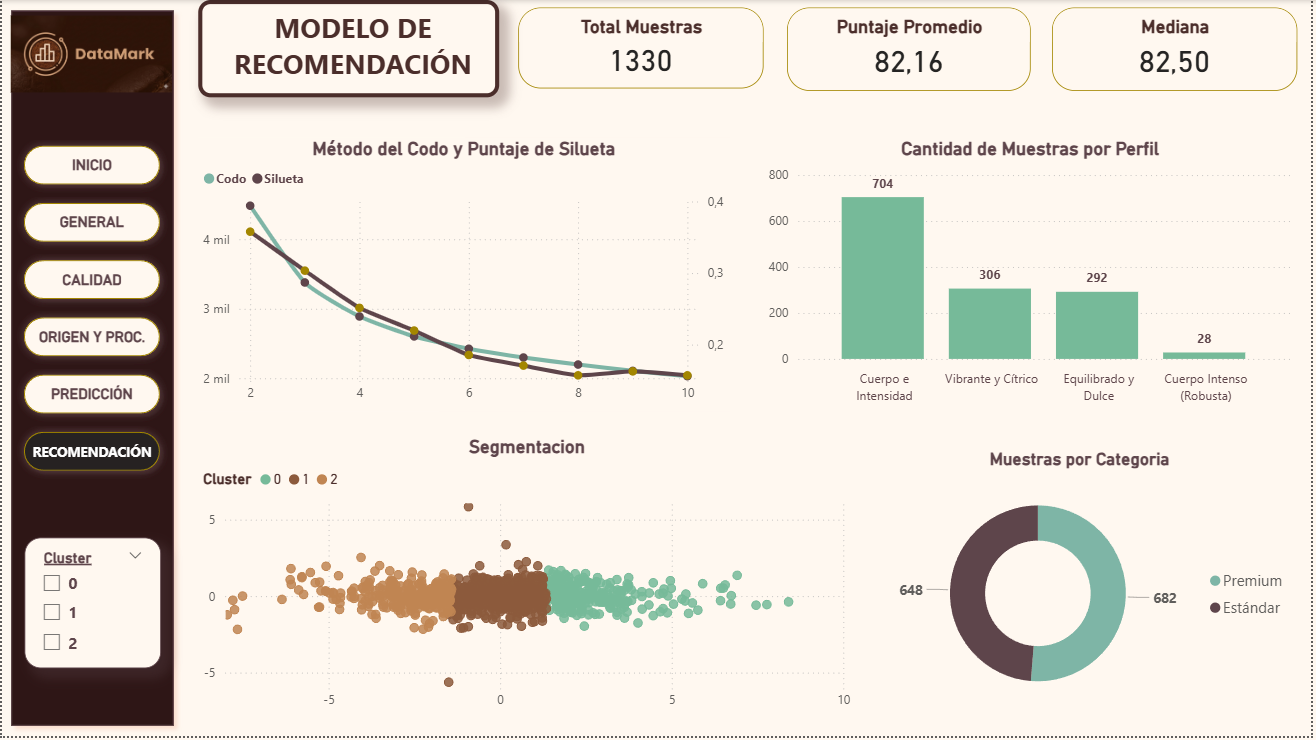

This screenshot's page, from the dashboard's own definition file:
{"tool":"powerbi","page":{"name":"RECOMENDACIÓN","canvas":[1280,720],"ordinal":5},"visuals":[{"type":"card","title":"Total Muestras","fields":{"Values":["Medidas.Total Muestras Recomendacion"]},"box":[505,7.3,239.7,79.5],"z":0},{"type":"card","title":"Mediana","fields":{"Values":["Medidas.Mediana"]},"box":[1027.2,7.3,239.7,81.9],"z":1000},{"type":"card","title":"Puntaje Promedio","fields":{"Values":["Medidas.Puntaje Promedio Recomendacion"]},"box":[767.9,7.3,238.5,81.9],"z":2000},{"type":"scatterChart","title":"Segmentacion ","fields":{"X":["proyeccion_2d_pca (2).PC1 (Intensidad/Calidad)"],"Y":["proyeccion_2d_pca (2).PC2 (Balance/Matices)"],"Series":["proyeccion_2d_pca (2).Cluster"]},"box":[192,426.8,643.2,276.4],"z":3000},{"type":"lineChart","title":"Método del Codo y Puntaje de Silueta","fields":{"Category":["metricas_optimizacion_clusters.k_clusters"],"Y":["Sum(metricas_optimizacion_clusters.inercia_codo)"],"Y2":["Sum(metricas_optimizacion_clusters.puntaje_silueta)"]},"box":[192,134.5,519.7,267.8],"z":4000},{"type":"clusteredColumnChart","title":"Cantidad de Muestras por Perfil","fields":{"Category":["coffee_flavor_segments.Perfil_Nombre"],"Y":["CountNonNull(coffee_flavor_segments.Moisture)"]},"box":[744.7,134.5,522.1,267.8],"z":5000},{"type":"donutChart","title":"Muestras por Categoria","fields":{"Category":["coffee_flavor_segments.Categoria_Calidad"],"Y":["CountNonNull(coffee_flavor_segments.Categoria_Calidad)"]},"box":[841.3,439,425.5,264.1],"z":6000},{"type":"textbox","title":"MODELO DE RECOMENDACIÓN","box":[192,0,294.7,95.4],"z":7000},{"type":"shape","box":[0,1.2,177,717.8],"z":8000},{"type":"slicer","fields":{"Values":["proyeccion_2d_pca.Cluster"]},"box":[22,525.8,133.3,128.4],"z":9000},{"type":"pageNavigator","box":[13.5,134.5,149.2,339.9],"z":10000},{"type":"image","box":[8.6,0,157.7,105.2],"z":11000}]}

Visuals, with their boxes in screenshot pixels (x1, y1, x2, y2), scaled from the page's 1280x720 canvas onto the 1316x740 screenshot:
"Total Muestras" card: pyautogui.locateOnScreen(519, 8, 766, 89)
"Mediana" card: pyautogui.locateOnScreen(1056, 8, 1303, 92)
"Puntaje Promedio" card: pyautogui.locateOnScreen(789, 8, 1035, 92)
"Segmentacion " scatterChart: pyautogui.locateOnScreen(197, 439, 859, 723)
"Método del Codo y Puntaje de Silueta" lineChart: pyautogui.locateOnScreen(197, 138, 732, 413)
"Cantidad de Muestras por Perfil" clusteredColumnChart: pyautogui.locateOnScreen(766, 138, 1302, 413)
"Muestras por Categoria" donutChart: pyautogui.locateOnScreen(865, 451, 1302, 723)
"MODELO DE RECOMENDACIÓN" textbox: pyautogui.locateOnScreen(197, 0, 500, 98)
shape: pyautogui.locateOnScreen(0, 1, 182, 739)
slicer - proyeccion_2d_pca.Cluster: pyautogui.locateOnScreen(23, 540, 160, 672)
pageNavigator: pyautogui.locateOnScreen(14, 138, 167, 488)
image: pyautogui.locateOnScreen(9, 0, 171, 108)
